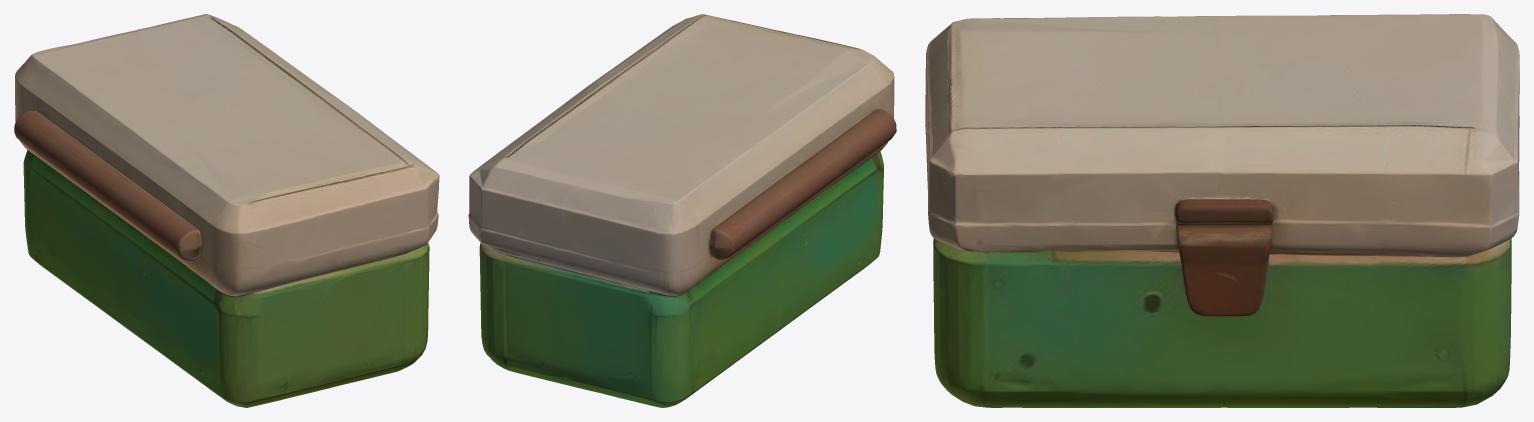
The model's file is toolbox.glb.
The picture shows the model from 3 angles, left to right: view 1: azimuth 30°, elevation 25°; view 2: azimuth 150°, elevation 25°; view 3: azimuth 270°, elevation 25°; orthographic projection. The views are drawn at different scales.
Visible parts, largest first — view 1: tripo_node_2beb28a0-c97a-4b1a-a330-a9e648a97dc8; view 2: tripo_node_2beb28a0-c97a-4b1a-a330-a9e648a97dc8; view 3: tripo_node_2beb28a0-c97a-4b1a-a330-a9e648a97dc8.
Boxes of the visible parts, bbox=[...] form: tripo_node_2beb28a0-c97a-4b1a-a330-a9e648a97dc8: bbox=[14, 14, 439, 407]; tripo_node_2beb28a0-c97a-4b1a-a330-a9e648a97dc8: bbox=[468, 14, 896, 407]; tripo_node_2beb28a0-c97a-4b1a-a330-a9e648a97dc8: bbox=[925, 14, 1519, 407].
Size of the model in its own units: 1.17 by 1 by 1.79.
1 material, 1 textured.
